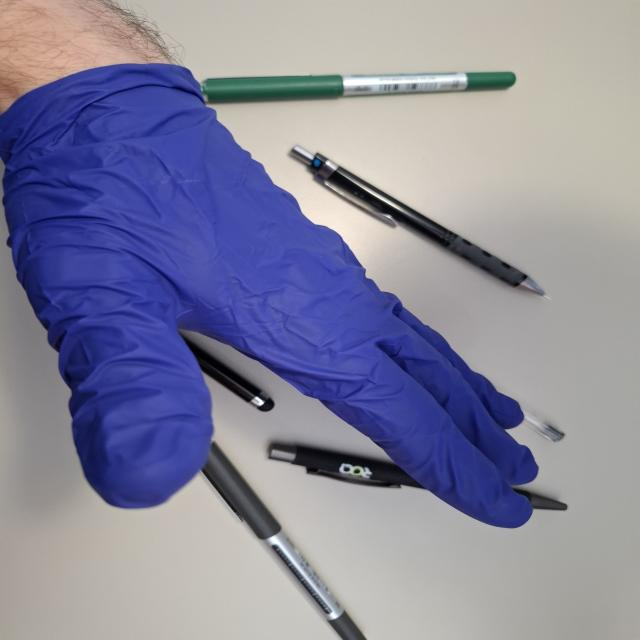glove_on: (0, 57, 549, 534)
